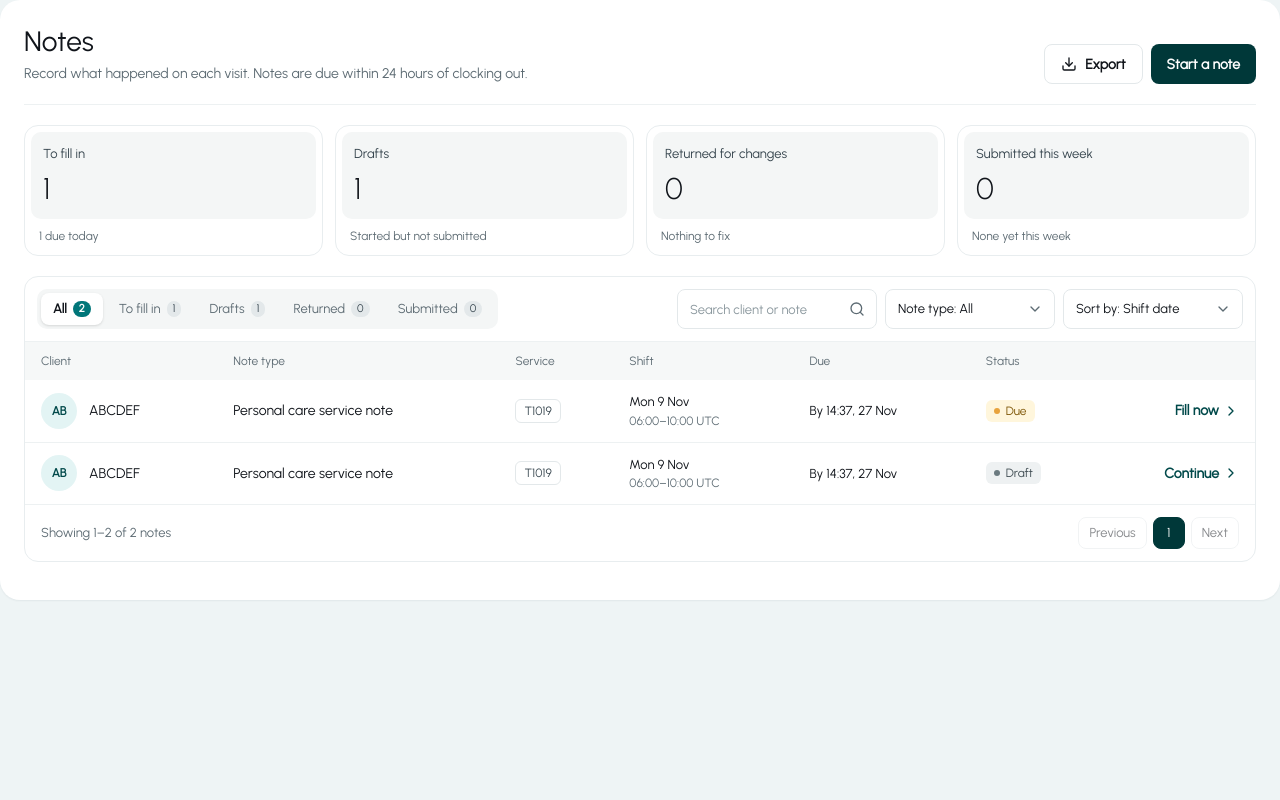
Test case: Notes list › starts a note from the picker
This screenshot has width=1280, height=800.
Later steps or results of the test are not shown.
Click the button "Start a note": (1203, 64) x1=1151 y1=44 x2=1256 y2=84
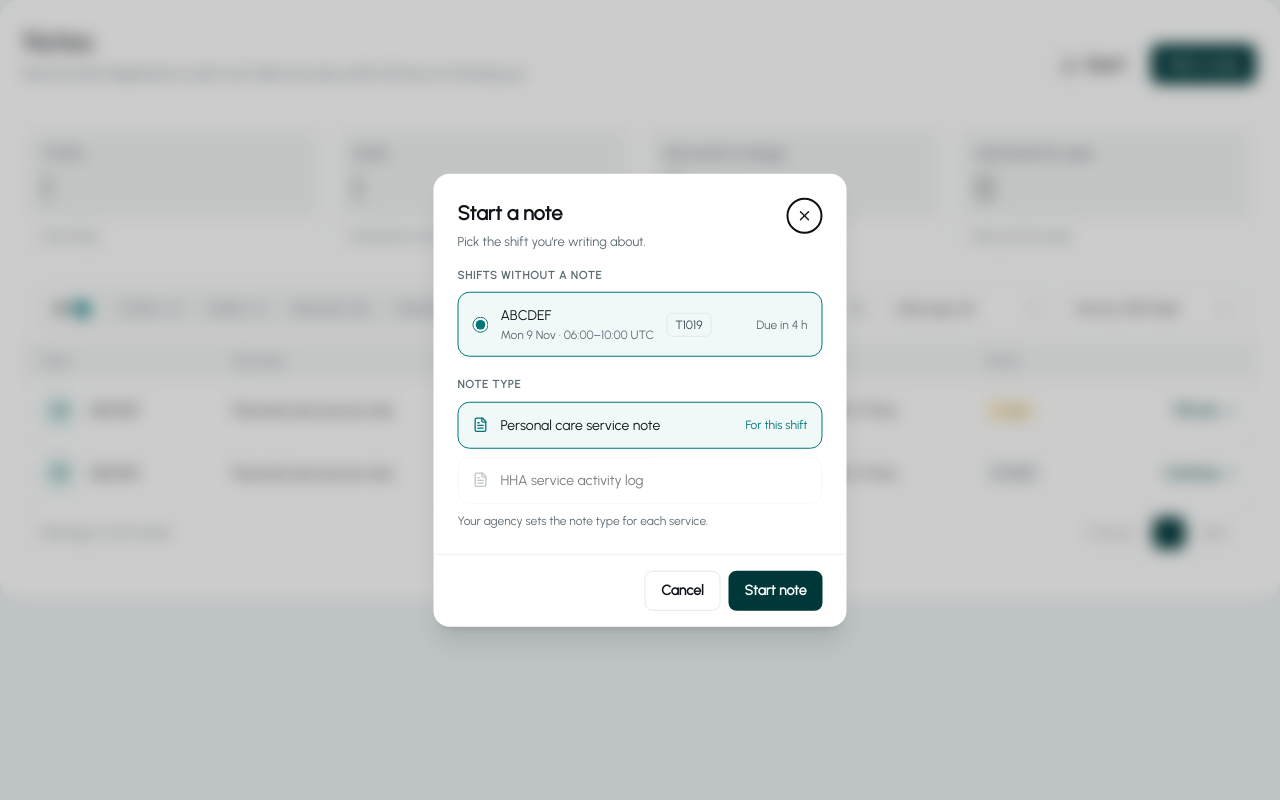
Check: the number of radio buttons is 1, box x1=472 y1=316 x2=488 y2=332
